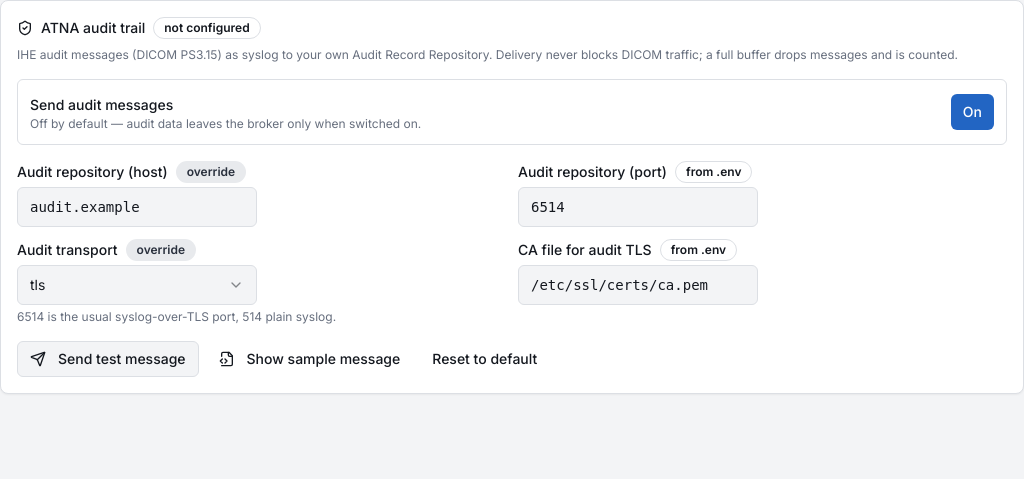
Scenario: AtnaCard › reports a failing test message
Click the button "Send test message" at (108, 359), box x1=17 y1=341 x2=199 y2=377
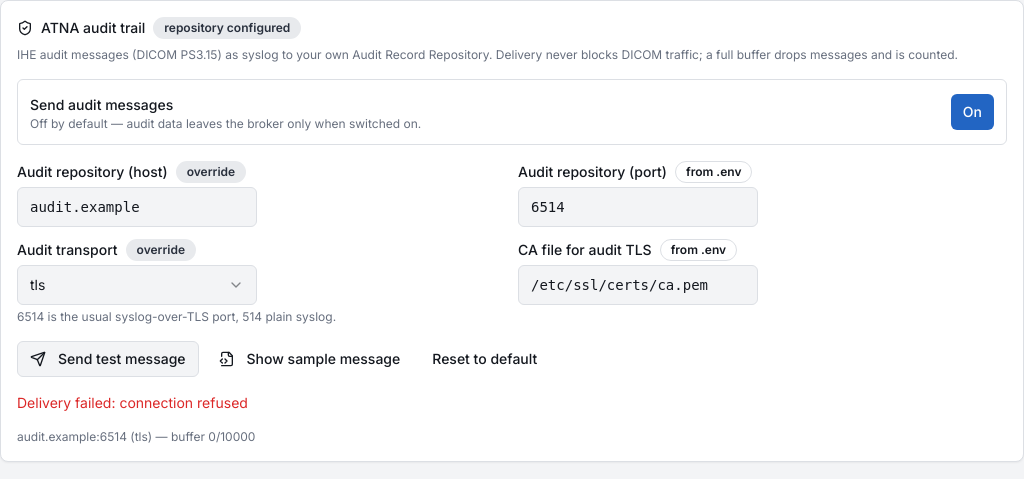
Expected: the message with test id "atna-test-result" reads "Delivery failed: connection refused", x1=17 y1=394 x2=248 y2=411
